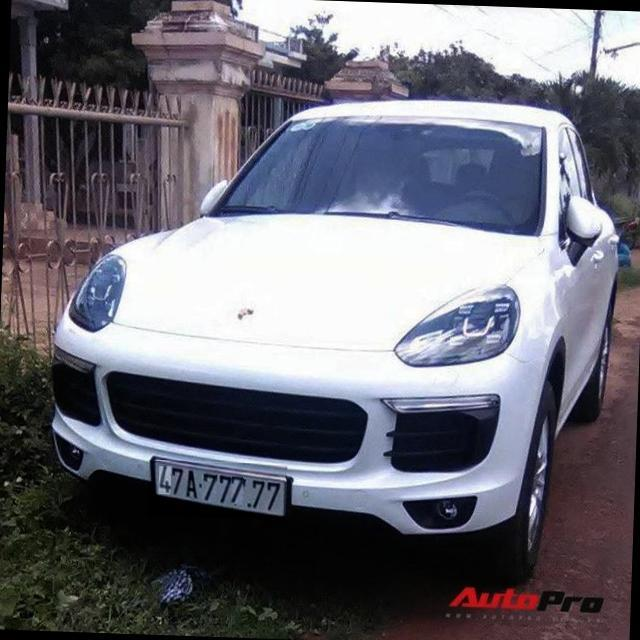car: (34, 82, 640, 577)
plate: (147, 452, 291, 521)
